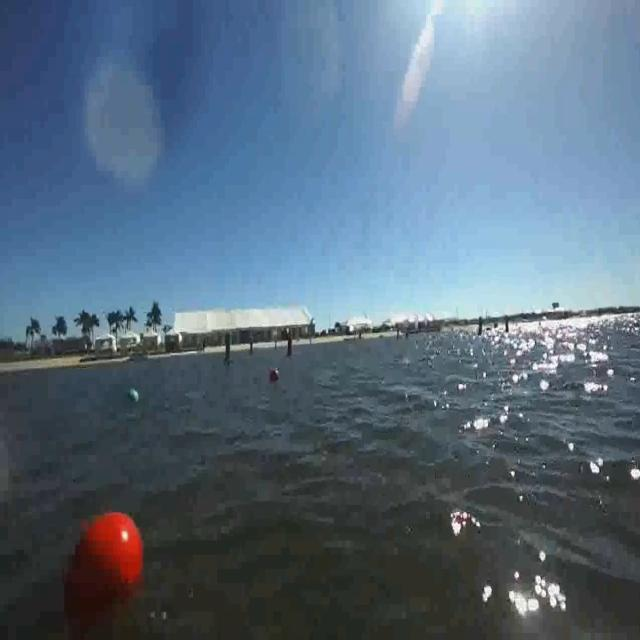green-buoy: (125, 390, 141, 406)
green-column-buoy: (222, 332, 234, 364)
red-buoy: (61, 504, 151, 590), (268, 366, 281, 386)
